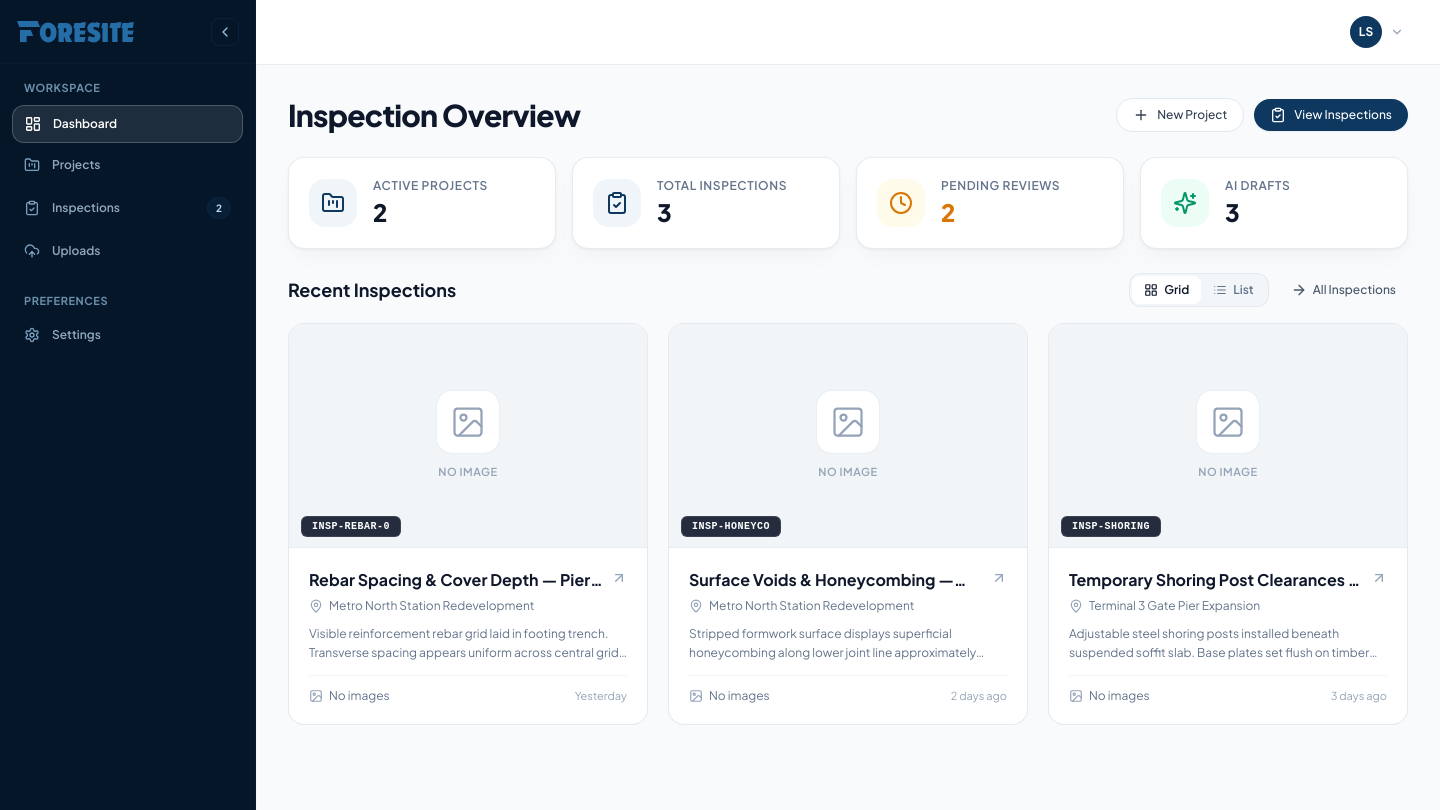
Scenario: ForeSite Application Shell Navigation › navigates to Uploads screen when Uploads is clicked in navigation
Click the button "Uploads": [128, 250] box [12,232,243,268]
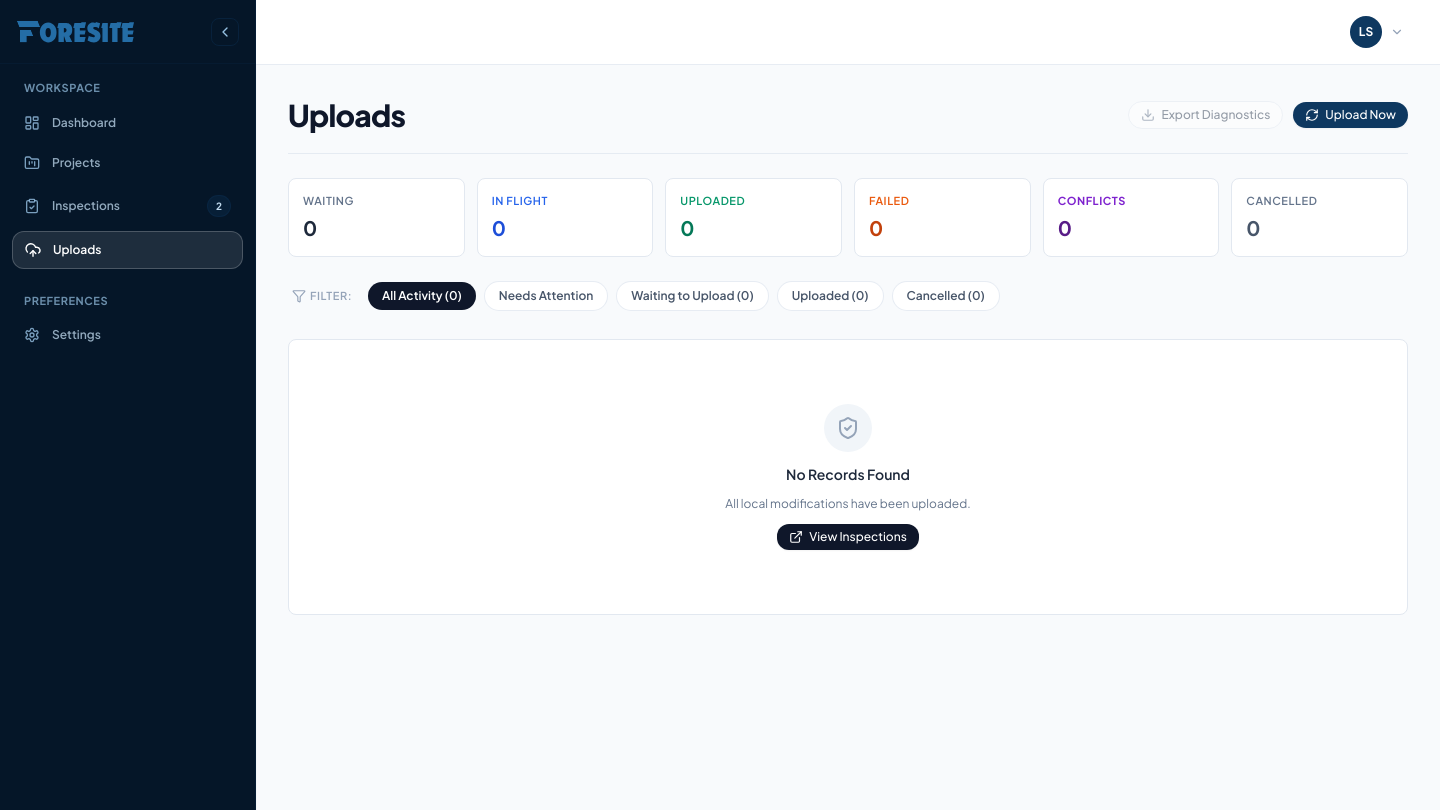
Expected: the heading "Uploads" is shown, [288,97,405,133]
Expected: the button "Export Diagnostics" is shown, [1128,101,1283,129]
